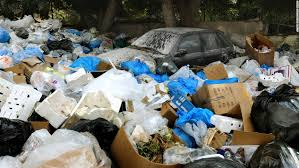garbage: (1, 69, 299, 167), (1, 17, 98, 164), (235, 38, 297, 168)
